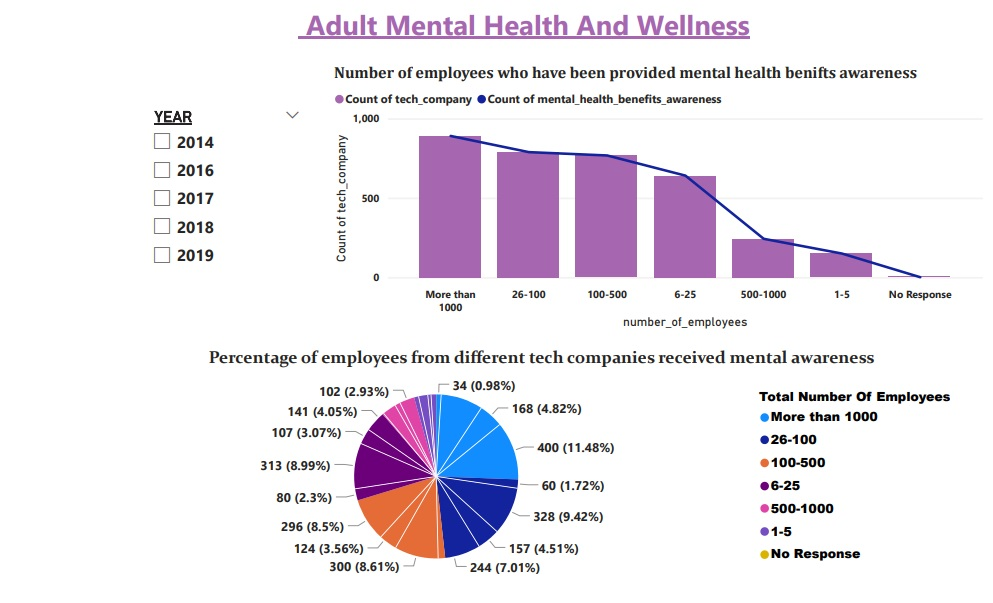

What the dashboard file says about the page in this screenshot:
{"tool":"powerbi","page":{"name":"Page 1","canvas":[1280,720],"ordinal":0},"visuals":[{"type":"group","id":"g1","title":"Group 2","box":[145.3,87.7,1024.4,609.1],"z":0},{"type":"group","id":"g2","title":"Group 1","box":[185,87.7,984.7,315.5],"z":0,"group":"g1"},{"type":"slicer","fields":{"Values":["Mental health in tech survey 2014-2019.year"]},"box":[185,134.7,194.7,224.9],"z":0,"group":"g2"},{"type":"textbox","box":[38.4,15.1,1155.8,52.1],"z":1000},{"type":"lineStackedColumnComboChart","title":"Number of employees who have been provided mental health benifts awareness","fields":{"Category":["Mental health in tech survey 2014-2019.number_of_employees"],"Y":["CountNonNull(Mental health in tech survey 2014-2019.tech_company)"],"Y2":["CountNonNull(Mental health in tech survey 2014-2019.mental_health_benefits_awareness)"]},"box":[403.3,87.7,766.4,315.5],"z":1000,"group":"g2"},{"type":"pieChart","title":"Percentage of employees from different tech companies received mental awareness","fields":{"Category":["Mental health in tech survey 2014-2019.number_of_employees"],"Y":["CountNonNull(Mental health in tech survey 2014-2019.tech_company)"],"Series":["Mental health in tech survey 2014-2019.mental_health_benefits_awareness"]},"box":[145.3,418.5,1010.5,278.3],"z":1000,"group":"g1"}]}

Visuals, with their boxes on the page's 1280x720 design canvas (x1, y1, x2, y2). These are canvas units, not pixel positions in the 993x603 screenshot, which may show the page scaled, cropped or inside an application window:
"Group 2" group: <box>145,88,1170,697</box>
"Group 1" group: <box>185,88,1170,403</box>
slicer - Mental health in tech survey 2014-2019.year: <box>185,135,380,360</box>
textbox: <box>38,15,1194,67</box>
"Number of employees who have been provided mental health benifts awareness" lineStackedColumnComboChart: <box>403,88,1170,403</box>
"Percentage of employees from different tech companies received mental awareness" pieChart: <box>145,418,1156,697</box>
